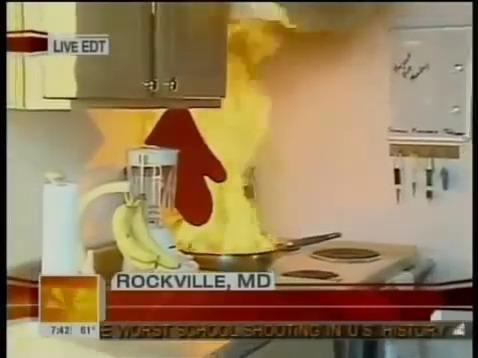fire: (173, 3, 284, 254)
